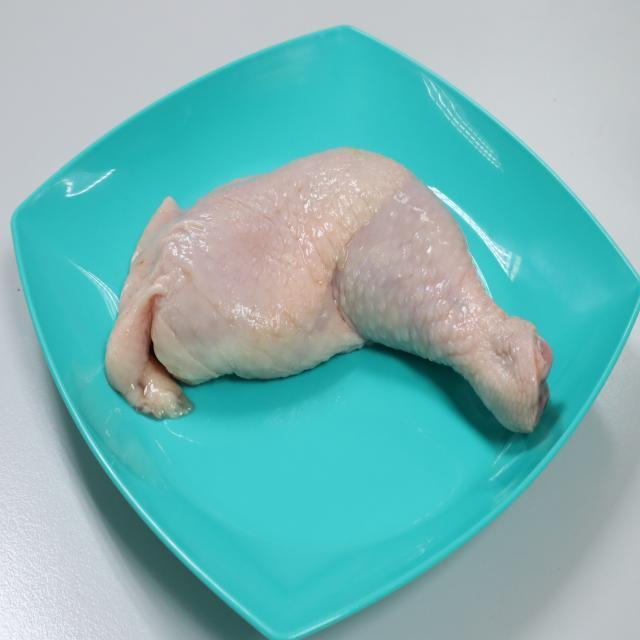quater: (124, 153, 546, 444)
